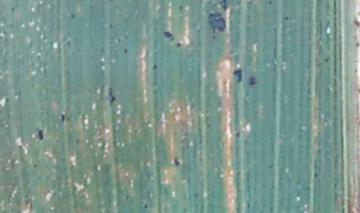tarspot: (206, 12, 228, 40), (106, 85, 117, 105), (231, 68, 243, 85), (162, 30, 175, 43), (36, 128, 46, 142), (247, 74, 257, 87), (171, 156, 181, 168), (350, 18, 360, 29), (2, 95, 10, 107), (218, 1, 227, 11), (59, 113, 67, 124), (353, 40, 360, 52), (68, 11, 77, 20), (233, 130, 241, 139), (107, 21, 114, 31), (351, 175, 357, 186), (31, 161, 39, 169), (73, 137, 81, 145), (322, 56, 330, 64), (281, 14, 289, 22), (7, 22, 15, 30), (122, 193, 130, 201), (352, 66, 359, 75), (174, 41, 181, 49), (142, 202, 149, 210), (312, 171, 319, 179), (205, 122, 212, 130), (65, 38, 71, 47), (8, 5, 15, 12), (151, 63, 157, 71), (122, 47, 128, 55), (177, 4, 185, 10), (356, 86, 360, 95), (267, 1, 273, 6)
